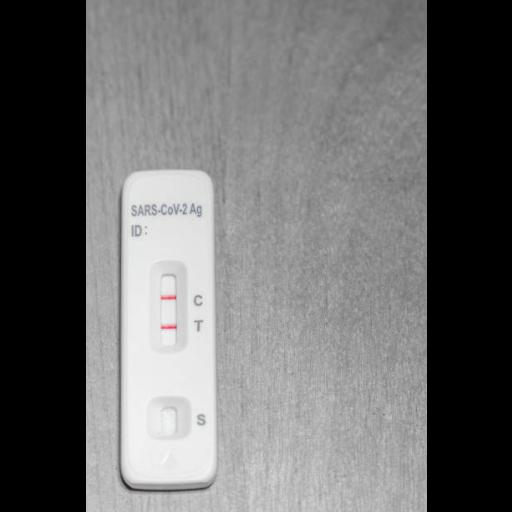Pos: (120, 170, 216, 480)
